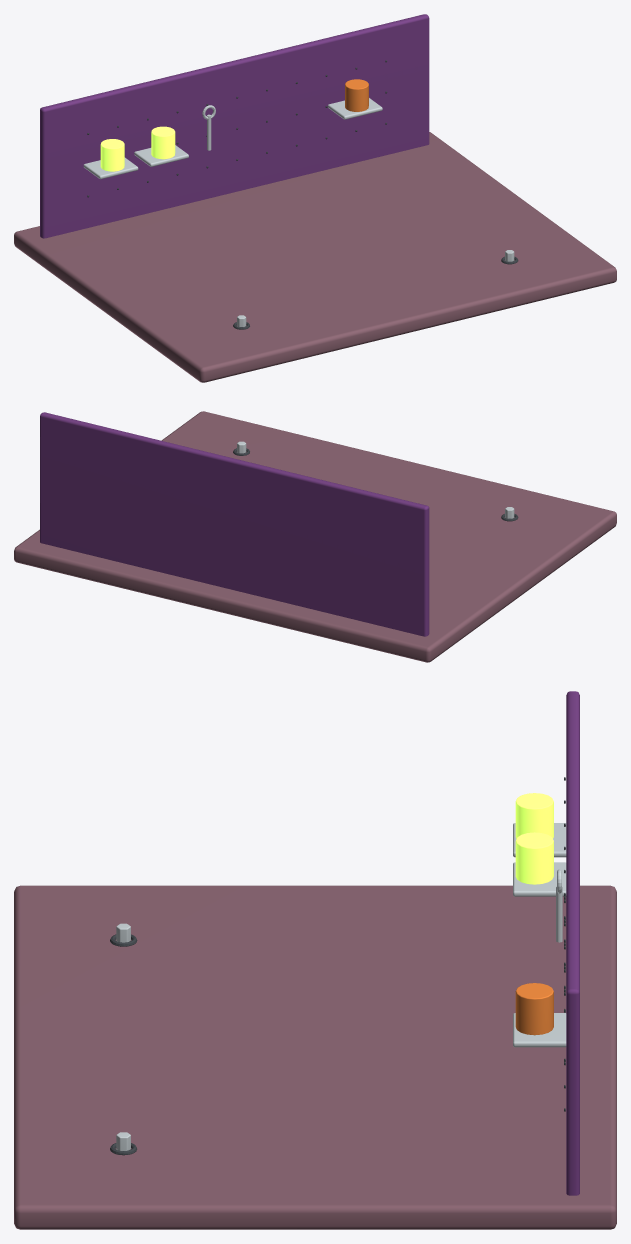
File: workshop.glb
The picture shows the model from 3 angles, top to bottom: view 1: azimuth 30°, elevation 25°; view 2: azimuth 150°, elevation 25°; view 3: azimuth 270°, elevation 25°; orthographic projection. The views are drawn at different scales.
Visible parts, largest first — view 1: Workshop tabletop, Back pegboard, Paint tin.001, Paint tin, Paint tin.002, Shelf, Shelf.001, Shelf.002; view 2: Back pegboard, Workshop tabletop; view 3: Workshop tabletop, Back pegboard, Paint tin.001, Paint tin.002, Paint tin, Shelf.002, Shelf.001.
Boxes of the visible parts, left/top/right/bottom form: Workshop tabletop: left=14, top=132, right=616, bottom=382; Back pegboard: left=40, top=14, right=429, bottom=238; Paint tin.001: left=151, top=126, right=175, bottom=159; Paint tin: left=100, top=139, right=124, bottom=171; Paint tin.002: left=345, top=79, right=368, bottom=111; Shelf: left=83, top=157, right=138, bottom=179; Shelf.001: left=134, top=145, right=188, bottom=166; Shelf.002: left=328, top=98, right=382, bottom=119; Back pegboard: left=40, top=412, right=429, bottom=636; Workshop tabletop: left=14, top=411, right=616, bottom=662; Workshop tabletop: left=14, top=885, right=616, bottom=1229; Back pegboard: left=566, top=691, right=579, bottom=1195; Paint tin.001: left=515, top=832, right=553, bottom=884; Paint tin.002: left=515, top=983, right=553, bottom=1035; Paint tin: left=515, top=793, right=553, bottom=838; Shelf.002: left=513, top=1013, right=566, bottom=1047; Shelf.001: left=513, top=862, right=566, bottom=896.
Bounding box in the file's own units: 14 × 4.63 × 11.
